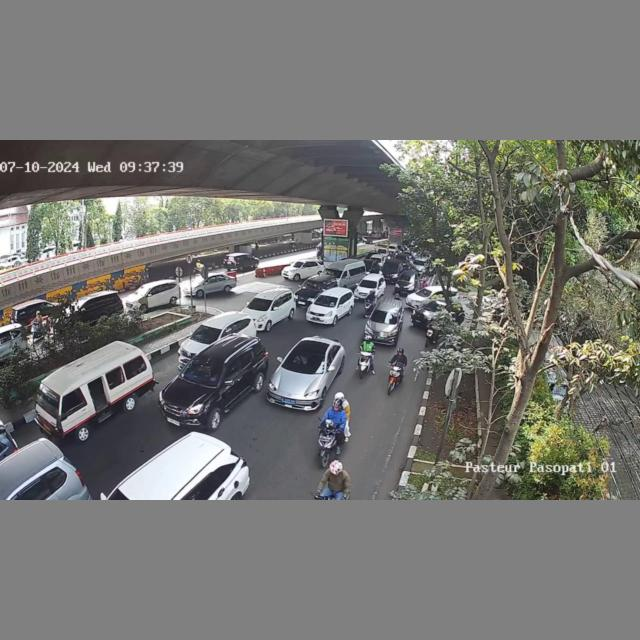windshield: (181, 358, 224, 389), (283, 349, 327, 376), (34, 383, 62, 417), (194, 324, 222, 344), (368, 309, 401, 325), (246, 297, 272, 311), (315, 294, 338, 309), (302, 279, 323, 289), (359, 280, 378, 288), (399, 274, 414, 283)
